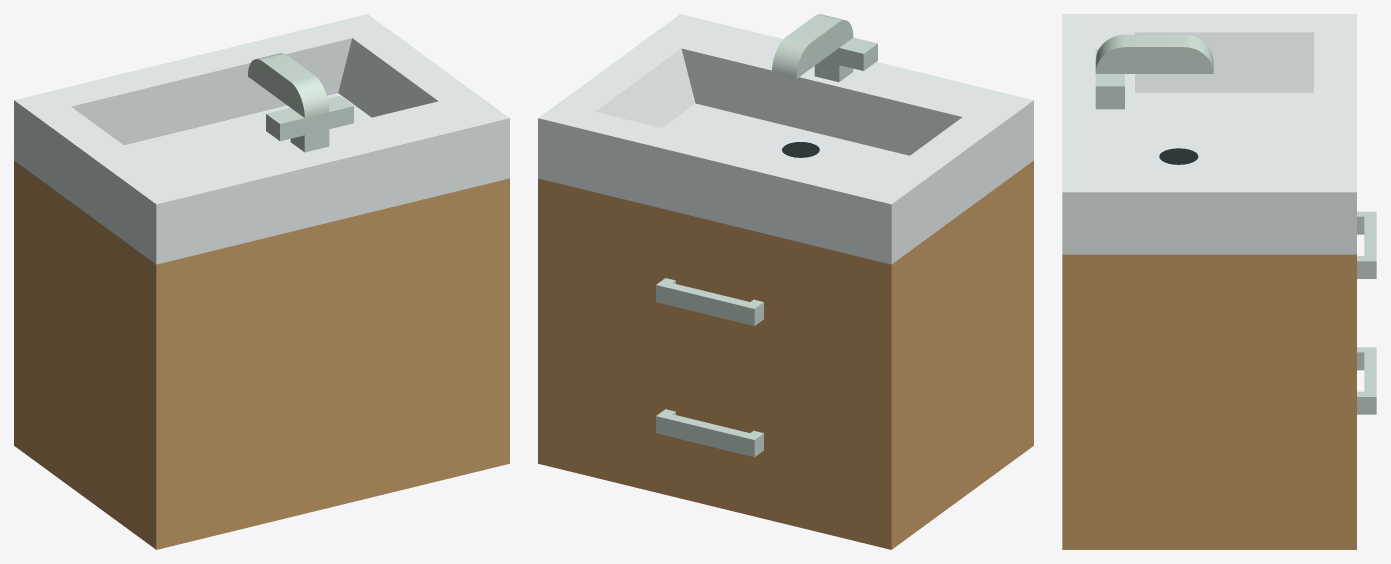
The model's file is kitchenCabinetDrawer.glb.
3 views of the same model, side by side, from view 1: azimuth 30°, elevation 25°; view 2: azimuth 150°, elevation 25°; view 3: azimuth 270°, elevation 25° (orthographic). The views are drawn at different scales.
Bounding box in the file's own units: 4.3 × 4.72 × 3.2.
